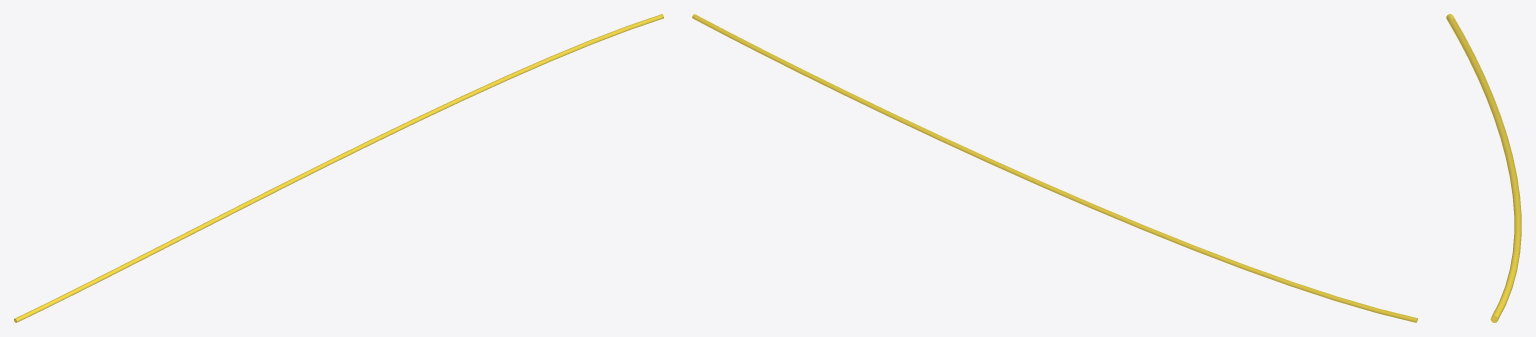
The model's file is Event_402970704_track_58.fbx.
3 views of the same model, side by side, from view 1: azimuth 30°, elevation 25°; view 2: azimuth 150°, elevation 25°; view 3: azimuth 270°, elevation 25° (orthographic). The views are drawn at different scales.
Visible parts, largest first — view 1: Model; view 2: Model; view 3: Model.
Boxes of the visible parts, x1,y1,x2,y2 form: Model: [14, 14, 663, 322]; Model: [692, 14, 1417, 322]; Model: [1446, 14, 1521, 322].
Size of the model in its own units: 6.52 by 1.29 by 0.404.
